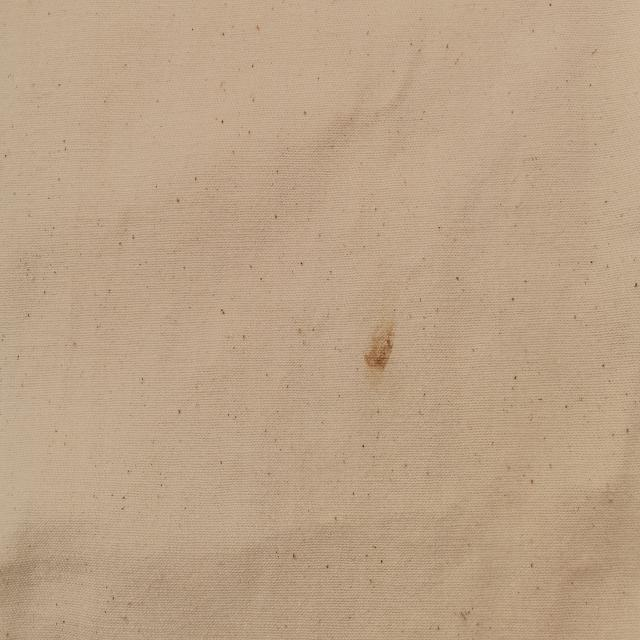taaaches: (362, 313, 396, 388)
